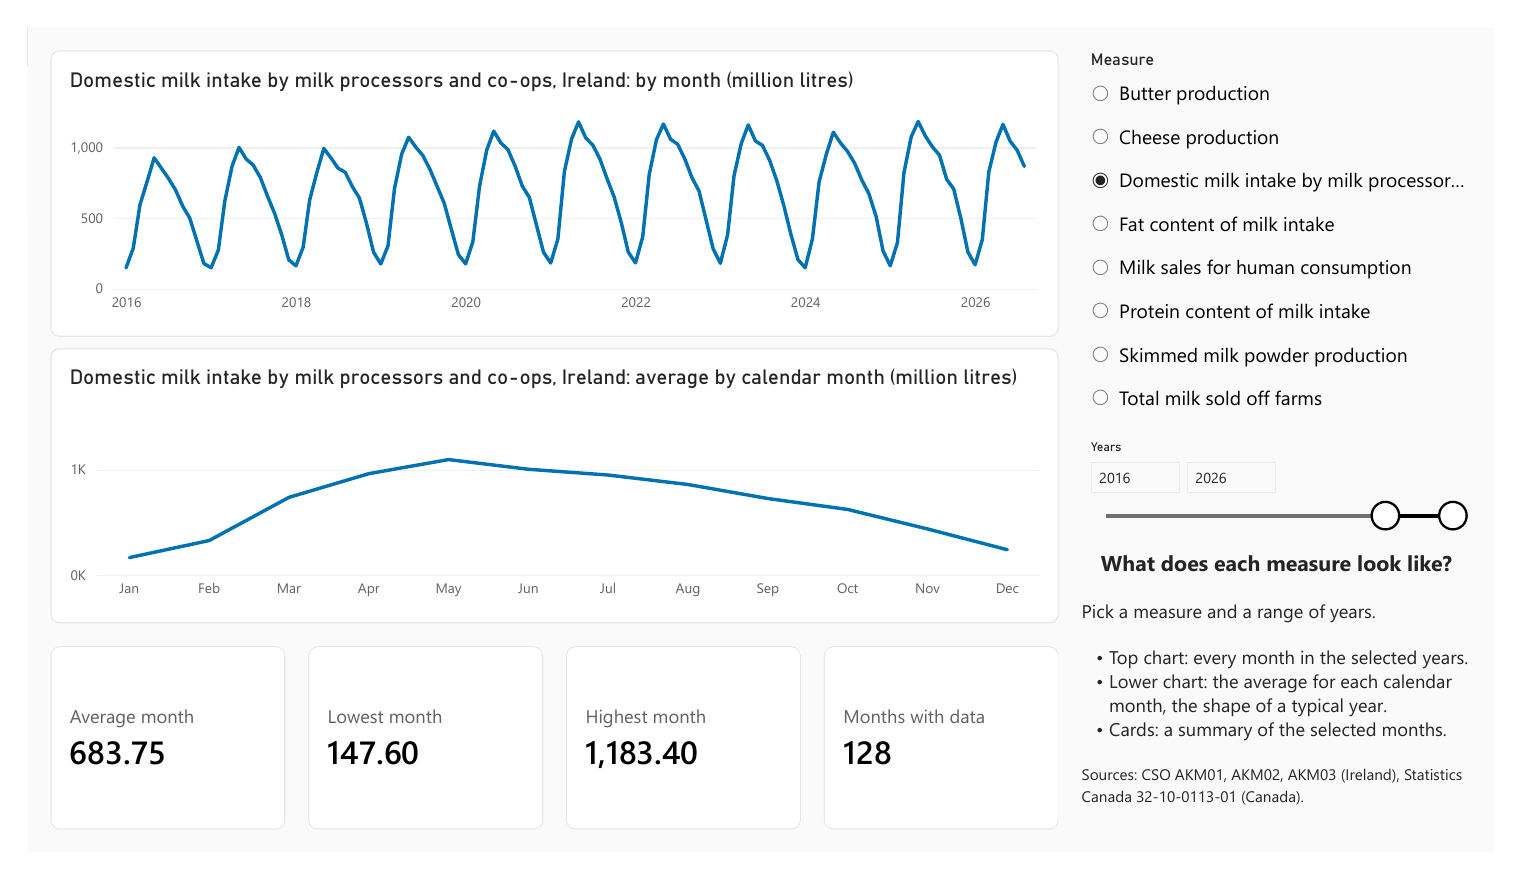

The dashboard page shown, as its layout file describes it:
{"tool":"powerbi","page":{"name":"Explore the data","canvas":[1280,720],"ordinal":5},"visuals":[{"type":"slicer","fields":{"Values":["dim_measure.measure_name"]},"box":[920,20,340,330],"z":0},{"type":"lineChart","fields":{"Category":["dim_date.date_key"],"Y":["fact_monthly.Monthly value"]},"box":[20,20,880,250],"z":1},{"type":"slicer","fields":{"Values":["dim_date.year"]},"box":[920,360,340,80],"z":2},{"type":"lineChart","fields":{"Category":["dim_date.month_short"],"Y":["fact_monthly.Average by calendar month"]},"box":[20,280,880,240],"z":3},{"type":"cardVisual","fields":{"Data":["fact_monthly.Explore, lowest month (label)"]},"box":[245,540,205,160],"z":4},{"type":"cardVisual","fields":{"Data":["fact_monthly.Explore, average (label)"]},"box":[20,540,205,160],"z":5},{"type":"cardVisual","fields":{"Data":["fact_monthly.Explore, highest month (label)"]},"box":[470,540,205,160],"z":6},{"type":"cardVisual","fields":{"Data":["fact_monthly.Explore, months with data"]},"box":[695,540,205,160],"z":7},{"type":"textbox","box":[920,455,340,245],"z":8}]}

Visuals, with their boxes in screenshot pixels (x1, y1, x2, y2), scaled from the page's 1280x720 canvas onto the 1522x880 screenshot:
slicer - dim_measure.measure_name: {"left": 1094, "top": 24, "right": 1498, "bottom": 428}
lineChart - dim_date.date_key x fact_monthly.Monthly value: {"left": 24, "top": 24, "right": 1070, "bottom": 330}
slicer - dim_date.year: {"left": 1094, "top": 440, "right": 1498, "bottom": 538}
lineChart - dim_date.month_short x fact_monthly.Average by calendar month: {"left": 24, "top": 342, "right": 1070, "bottom": 636}
cardVisual - fact_monthly.Explore, lowest month (label): {"left": 291, "top": 660, "right": 535, "bottom": 856}
cardVisual - fact_monthly.Explore, average (label): {"left": 24, "top": 660, "right": 268, "bottom": 856}
cardVisual - fact_monthly.Explore, highest month (label): {"left": 559, "top": 660, "right": 803, "bottom": 856}
cardVisual - fact_monthly.Explore, months with data: {"left": 826, "top": 660, "right": 1070, "bottom": 856}
textbox: {"left": 1094, "top": 556, "right": 1498, "bottom": 856}
